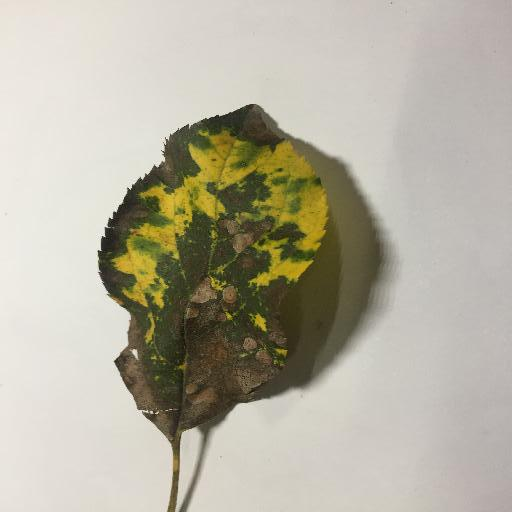Brown_Spot: (67, 115, 335, 431)
